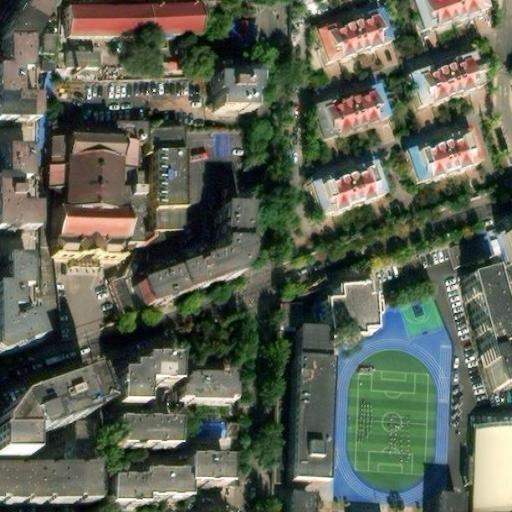building: (50, 126, 136, 251), (0, 374, 95, 457), (136, 235, 239, 298), (285, 368, 329, 492), (110, 447, 219, 492), (69, 3, 198, 39), (61, 49, 204, 80), (0, 265, 40, 366), (311, 80, 382, 136), (313, 167, 384, 223), (406, 131, 476, 187), (461, 265, 507, 349), (405, 47, 475, 102), (310, 4, 380, 59), (473, 425, 512, 512), (0, 51, 38, 135), (0, 157, 37, 243), (320, 279, 375, 334), (115, 354, 175, 402), (52, 105, 149, 130), (444, 230, 498, 270), (173, 361, 226, 395), (113, 409, 174, 438), (406, 0, 474, 26), (155, 160, 184, 216), (214, 196, 253, 236), (215, 93, 257, 130), (186, 413, 232, 438), (292, 334, 323, 369), (204, 55, 248, 78), (485, 350, 512, 383), (155, 130, 184, 160), (432, 488, 466, 512), (224, 18, 250, 42), (275, 304, 299, 329)
